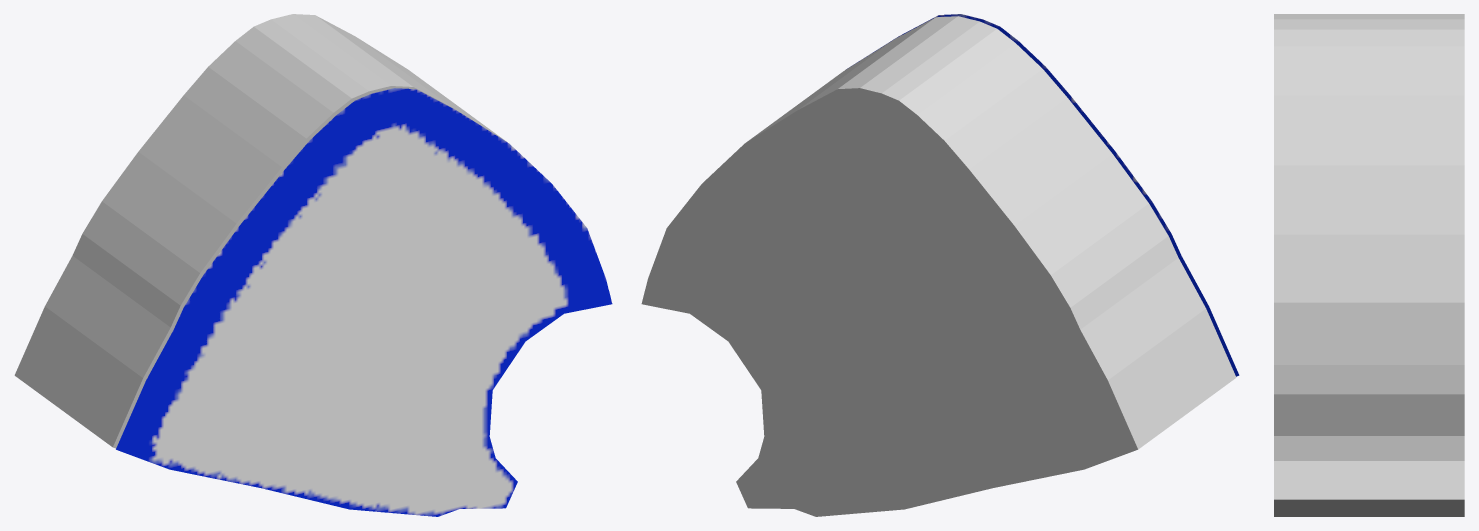
The picture shows the model from 3 angles, left to right: view 1: azimuth 30°, elevation 25°; view 2: azimuth 150°, elevation 25°; view 3: azimuth 270°, elevation 25°; orthographic projection. The views are drawn at different scales.
Parts seen in each view (by area): view 1: In_9_1, In_9_0; view 2: In_9_0, In_9_1; view 3: In_9_0.
Part boxes in pixels (x1,y1,x2,y2): In_9_1: (116,88,612,516); In_9_0: (14,14,506,448); In_9_0: (641,16,1236,516); In_9_1: (846,14,1239,376); In_9_0: (1274,14,1464,516).
Size of the model in its own units: 1.46 by 1.26 by 0.515.
Materials: 2 (1 with a texture image).
